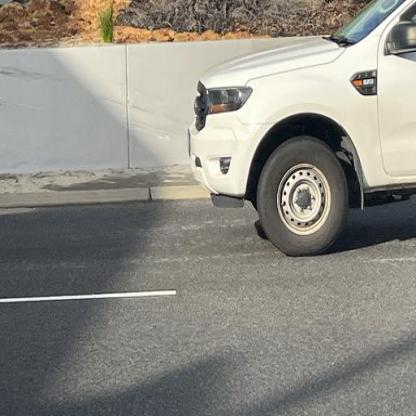Tire: (256, 136, 350, 258)
